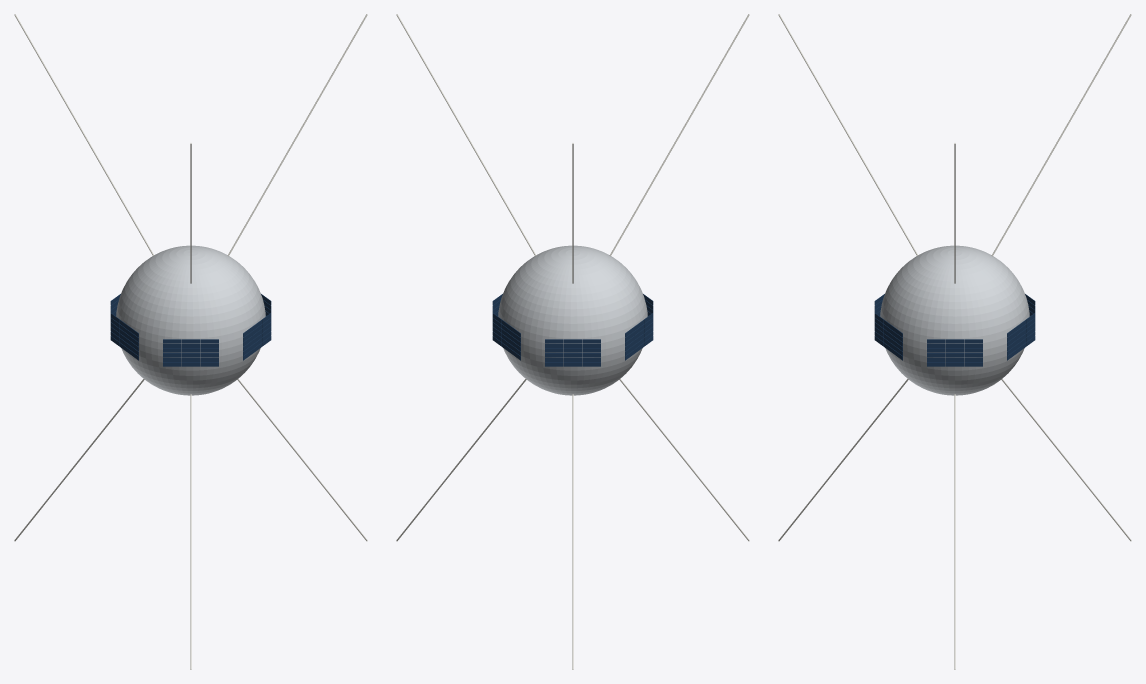
The model's file is Vanguard 1.fbx.
3 views of the same model, side by side, from view 1: azimuth 30°, elevation 25°; view 2: azimuth 150°, elevation 25°; view 3: azimuth 270°, elevation 25° (orthographic).
Visible parts, largest first — view 1: Vanguard 1 - Main Spherical Body, Upper Antenna 1, Upper Antenna 2, Lower Antenna 3; view 2: Vanguard 1 - Main Spherical Body, Upper Antenna 1, Upper Antenna 3, Lower Antenna 2; view 3: Vanguard 1 - Main Spherical Body, Upper Antenna 2, Upper Antenna 3, Lower Antenna 1.
Boxes of the visible parts, left/top/right/bottom form: Vanguard 1 - Main Spherical Body: left=116, top=245, right=265, bottom=395; Upper Antenna 1: left=227, top=14, right=367, bottom=255; Upper Antenna 2: left=14, top=14, right=154, bottom=255; Lower Antenna 3: left=190, top=394, right=191, bottom=669; Vanguard 1 - Main Spherical Body: left=498, top=245, right=647, bottom=395; Upper Antenna 1: left=396, top=14, right=536, bottom=255; Upper Antenna 3: left=609, top=14, right=749, bottom=255; Lower Antenna 2: left=572, top=394, right=573, bottom=669; Vanguard 1 - Main Spherical Body: left=880, top=245, right=1029, bottom=395; Upper Antenna 2: left=991, top=14, right=1131, bottom=255; Upper Antenna 3: left=778, top=14, right=918, bottom=255; Lower Antenna 1: left=954, top=394, right=955, bottom=669.
Size of the model in its own units: 33.4 by 63.43 by 38.54.
